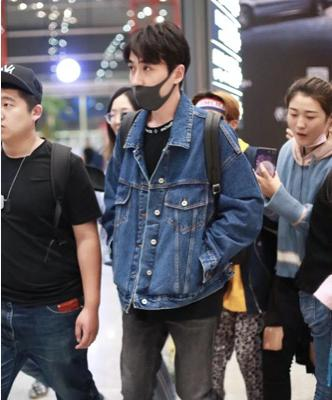mask_weared_incorrect: (124, 58, 170, 112), (286, 104, 325, 147)
without_mask: (0, 95, 28, 141), (109, 95, 134, 136)
